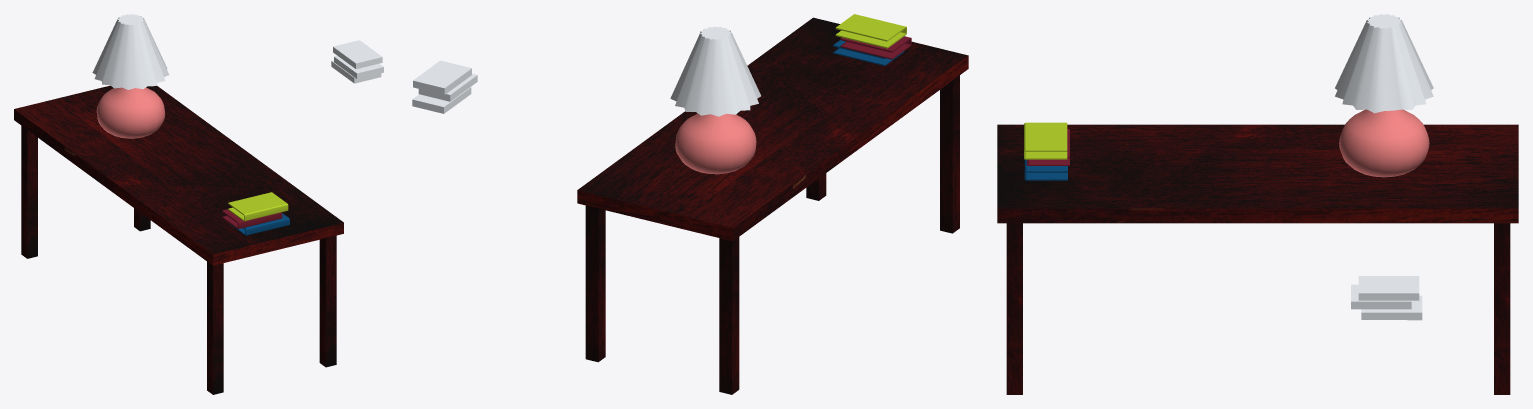
File: lamp-table.obj
3 renders of one model, left to right at view 1: azimuth 30°, elevation 25°; view 2: azimuth 150°, elevation 25°; view 3: azimuth 270°, elevation 25°, orthographic. The views are drawn at different scales.
Visible parts, largest first — view 1: pCube1, pCylinder1, pSphere1, pCube2, pCube3, pCube5, pCube11, pCube10, pCube9, pCube8, pCube6; view 2: pCube1, pCylinder1, pSphere1, pCube5, pCube4, pCube3, pCube11, pCube10, pCube9, pCube7, pCube6, pCube8; view 3: pCube1, pCylinder1, pSphere1, pCube2, pCube4, pCube11, pCube10, pCube7, pCube8, pCube6.
Part boxes in pixels (x1=…): pCube1: x1=14, y1=85, x2=343, y2=265; pCylinder1: x1=92, y1=14, x2=169, y2=89; pSphere1: x1=96, y1=87, x2=165, y2=138; pCube2: x1=319, y1=235, x2=336, y2=367; pCube3: x1=207, y1=261, x2=223, y2=394; pCube5: x1=21, y1=126, x2=37, y2=258; pCube11: x1=228, y1=192, x2=288, y2=221; pCube10: x1=333, y1=40, x2=382, y2=69; pCube9: x1=222, y1=209, x2=282, y2=229; pCube8: x1=334, y1=55, x2=383, y2=78; pCube6: x1=229, y1=213, x2=289, y2=235; pCube1: x1=577, y1=17, x2=968, y2=241; pCylinder1: x1=670, y1=26, x2=760, y2=116; pSphere1: x1=675, y1=113, x2=756, y2=174; pCube5: x1=719, y1=237, x2=739, y2=394; pCube4: x1=585, y1=205, x2=605, y2=362; pCube3: x1=940, y1=75, x2=959, y2=233; pCube11: x1=835, y1=14, x2=906, y2=48; pCube10: x1=413, y1=60, x2=471, y2=94; pCube9: x1=840, y1=36, x2=911, y2=59; pCube7: x1=412, y1=87, x2=471, y2=113; pCube6: x1=833, y1=40, x2=904, y2=65; pCube8: x1=418, y1=73, x2=477, y2=101; pCube1: x1=997, y1=124, x2=1518, y2=223; pCylinder1: x1=1335, y1=14, x2=1433, y2=113; pSphere1: x1=1339, y1=109, x2=1429, y2=177; pCube2: x1=1006, y1=223, x2=1022, y2=394; pCube4: x1=1494, y1=223, x2=1510, y2=394; pCube11: x1=1024, y1=122, x2=1067, y2=159; pCube10: x1=1358, y1=276, x2=1419, y2=300; pCube7: x1=1361, y1=295, x2=1422, y2=320; pCube8: x1=1351, y1=284, x2=1411, y2=309; pCube6: x1=1024, y1=159, x2=1067, y2=180.
Bounding box in the file's own units: 28.85 × 22.83 × 32.29.
Materials: 7 (1 with a texture image).
